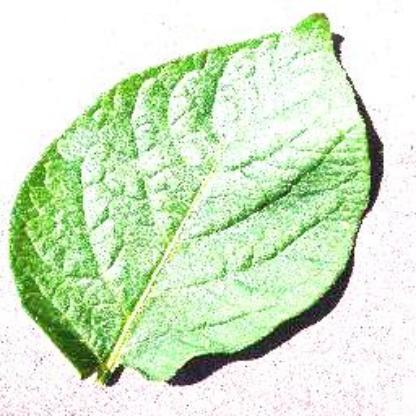Healthy-plant: (7, 11, 385, 389)
